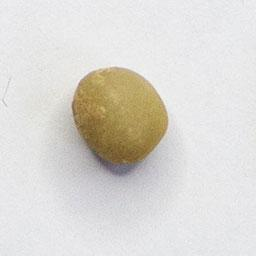defect: (67, 61, 175, 170)
